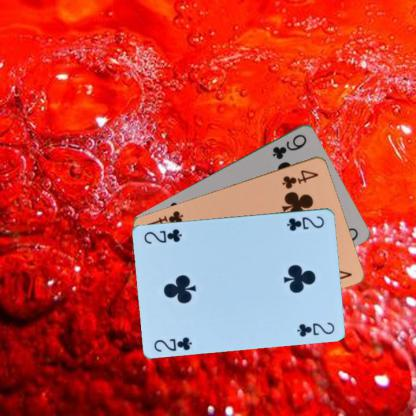2c: (284, 213, 326, 232), (152, 334, 194, 353)
4c: (279, 166, 320, 190)
9c: (270, 131, 308, 161)
